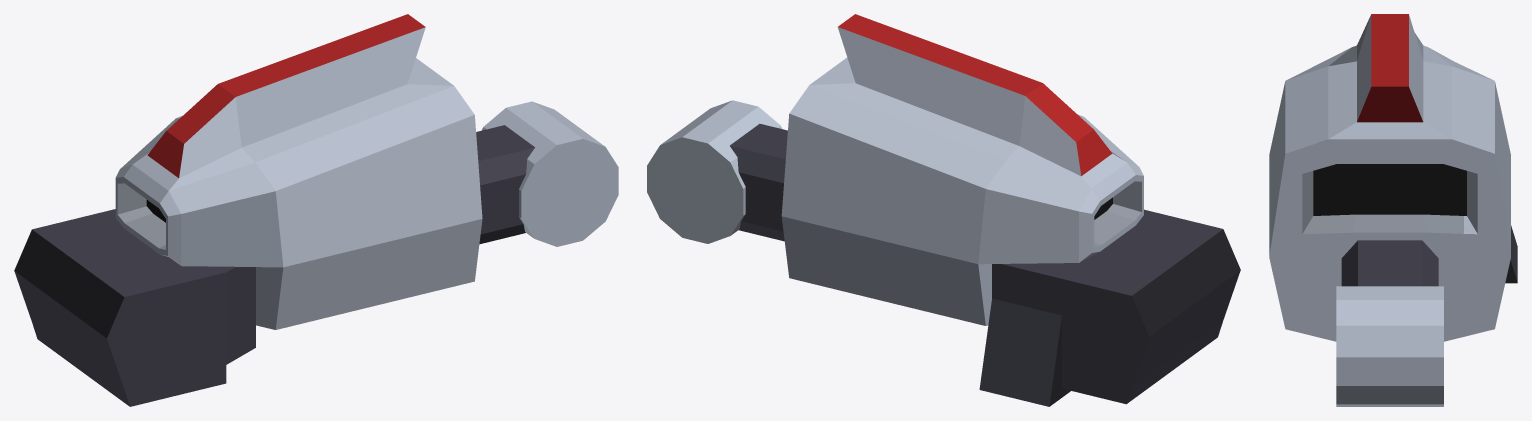
File: Rush_ArmL.obj
The picture shows the model from 3 angles, left to right: view 1: azimuth 30°, elevation 25°; view 2: azimuth 150°, elevation 25°; view 3: azimuth 270°, elevation 25°; orthographic projection. The views are drawn at different scales.
Visible parts, largest first — view 1: Forearm, cuboid, cylinder, Arm; view 2: Forearm, cuboid, cylinder, Arm; view 3: Forearm, cylinder, Arm, cuboid.
Part boxes in pixels (left/top/right/bottom): Forearm: left=115, top=14, right=482, bottom=329; cuboid: left=14, top=209, right=255, bottom=406; cylinder: left=481, top=101, right=618, bottom=246; Arm: left=476, top=125, right=534, bottom=244; Forearm: left=781, top=14, right=1143, bottom=325; cuboid: left=979, top=209, right=1240, bottom=406; cylinder: left=647, top=100, right=782, bottom=243; Arm: left=730, top=123, right=787, bottom=241; Forearm: left=1269, top=14, right=1510, bottom=341; cylinder: left=1336, top=286, right=1443, bottom=406; Arm: left=1341, top=240, right=1438, bottom=286; cuboid: left=1505, top=225, right=1517, bottom=283.
Bounding box in the file's own units: 0.75 × 0.3807 × 0.2891.
Materials: 1 (1 with a texture image).
